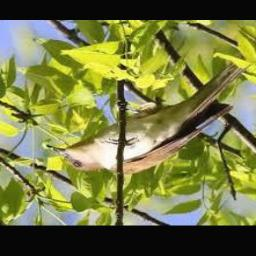Cuckoo: (46, 49, 253, 173)
